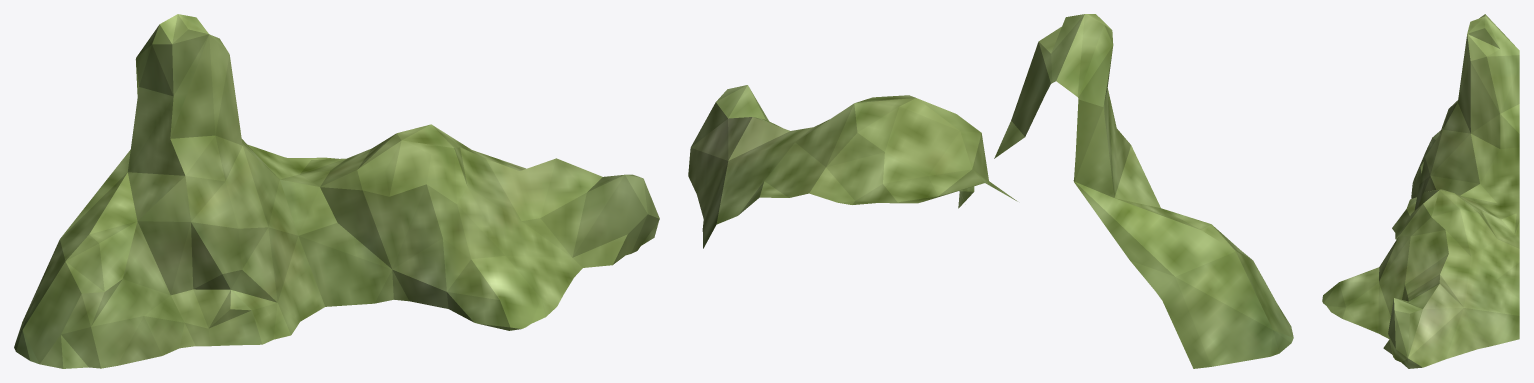
3 renders of one model, left to right at view 1: azimuth 30°, elevation 25°; view 2: azimuth 150°, elevation 25°; view 3: azimuth 270°, elevation 25°, orthographic. The views are drawn at different scales.
Bounding box in the file's own units: 2.55 × 1.16 × 1.02.
Materials: 1 (1 with a texture image).
